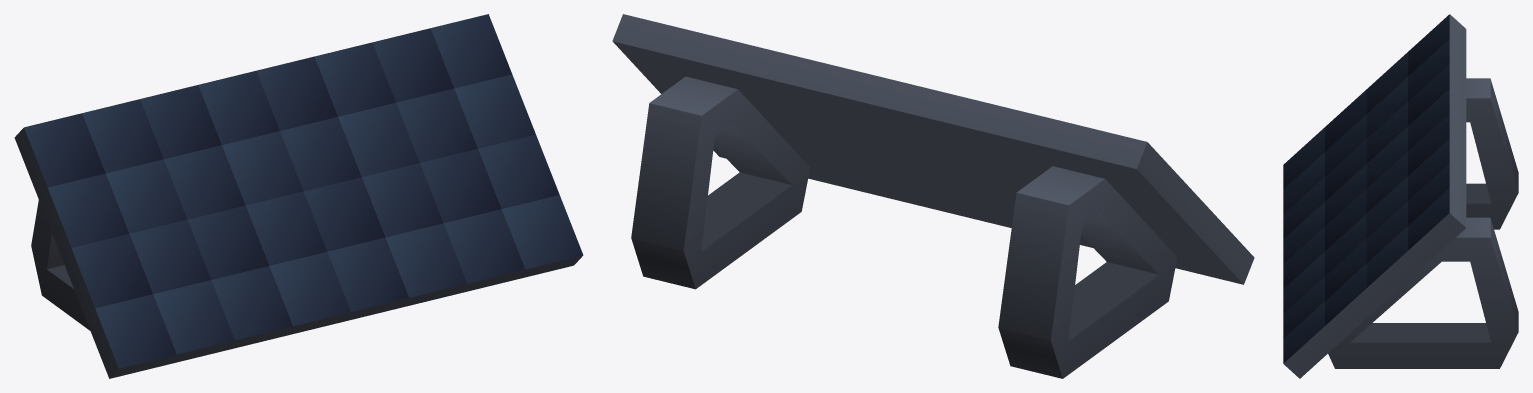
Rendered from solarpanel.glb.
The picture shows the model from 3 angles, left to right: view 1: azimuth 30°, elevation 25°; view 2: azimuth 150°, elevation 25°; view 3: azimuth 270°, elevation 25°; orthographic projection. The views are drawn at different scales.
Parts seen in each view (by area): view 1: solarpanel; view 2: solarpanel; view 3: solarpanel.
Part boxes in pixels (x1,y1,x2,y2): solarpanel: (14, 14, 583, 378); solarpanel: (612, 14, 1254, 378); solarpanel: (1283, 14, 1518, 378).
Bounding box in the file's own units: 0.9 × 0.3709 × 0.45.
Materials: 1 (1 with a texture image).
